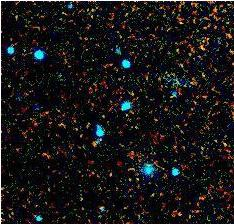star: (81, 131, 111, 161)
